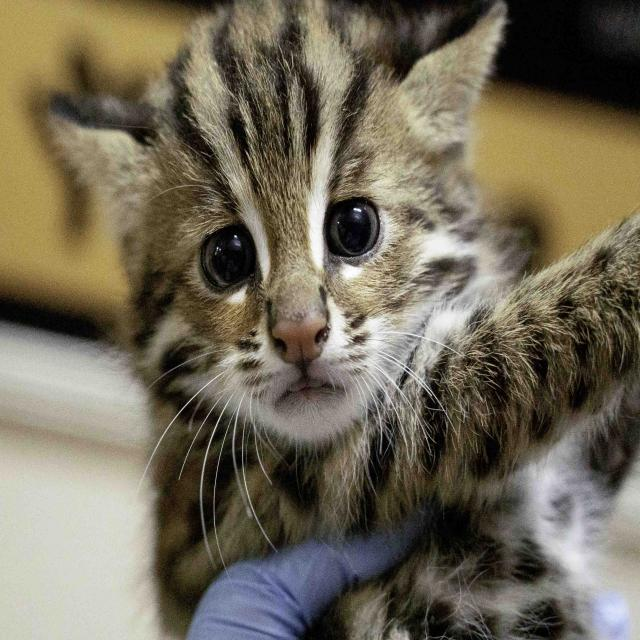leopard-cat: (30, 7, 640, 640)
